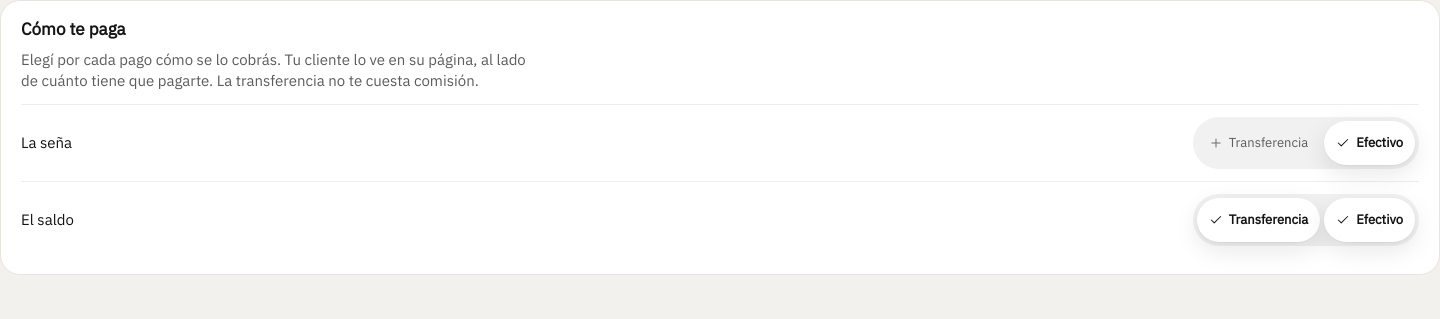
cómo te paga › no se puede dejar un pago sin ninguna forma: no guarda y lo explica
Step 1. Click the checkbox labelled "Efectivo" in the row of "La seña" → (1370, 143), box left=1324, top=121, right=1415, bottom=165
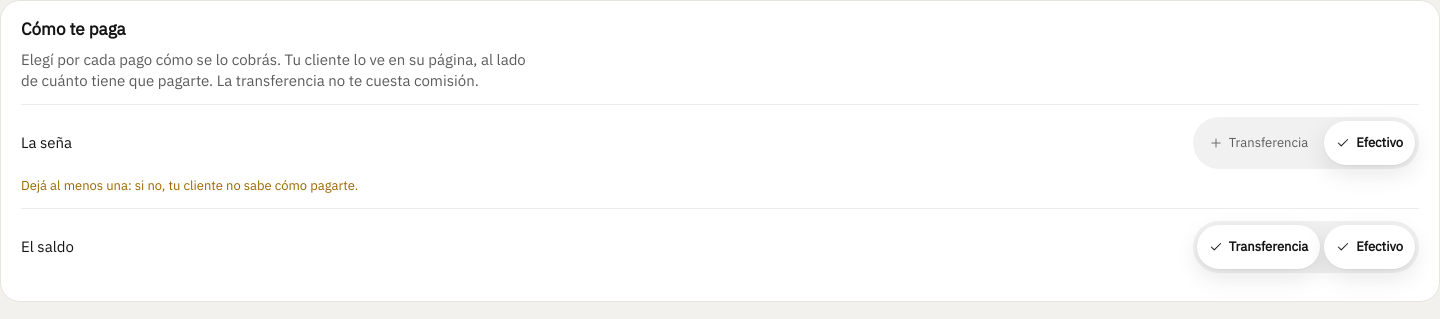
expect the message reads "Dejá al menos una: si no, tu cliente no sabe cómo pagarte.": met, box left=21, top=177, right=358, bottom=194
